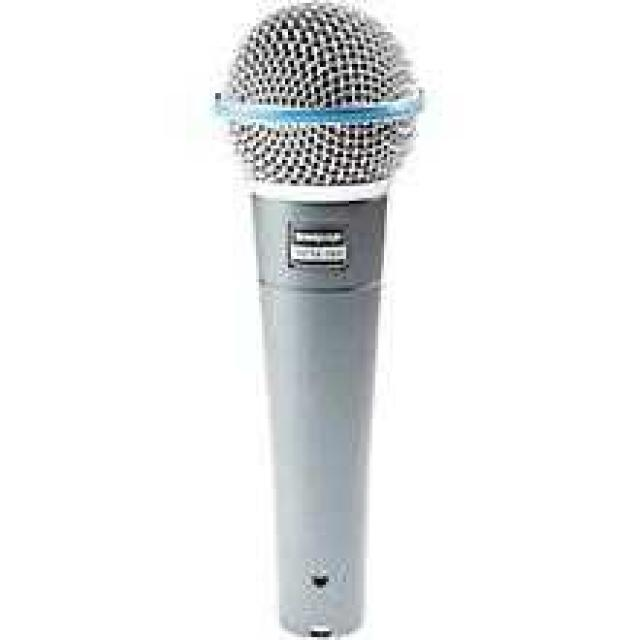microphone: (211, 12, 430, 609)
